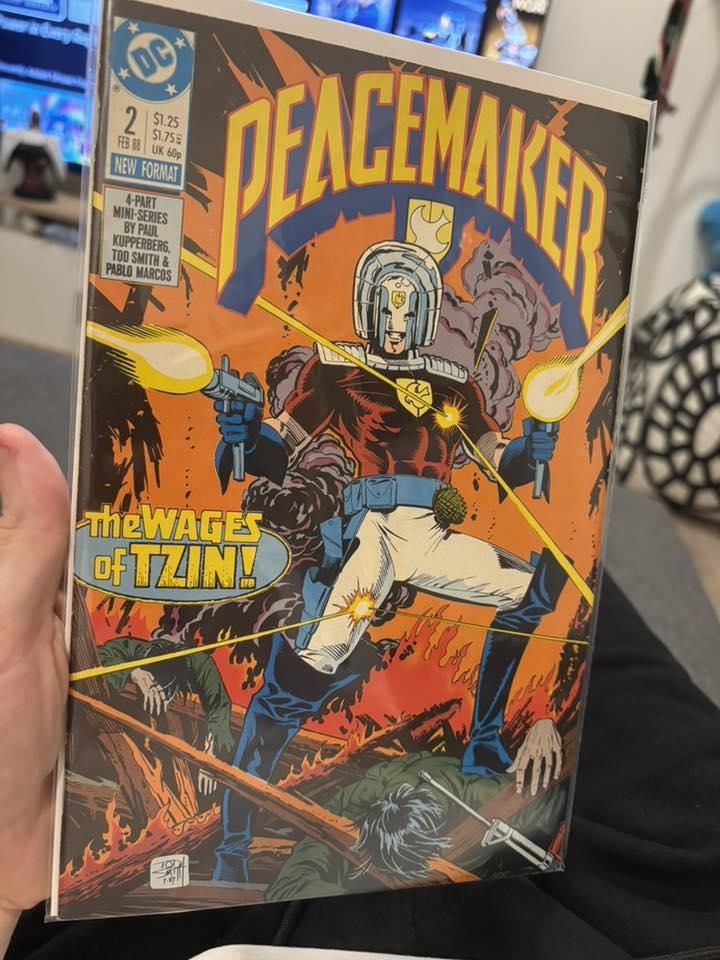comic: (38, 0, 655, 954)
